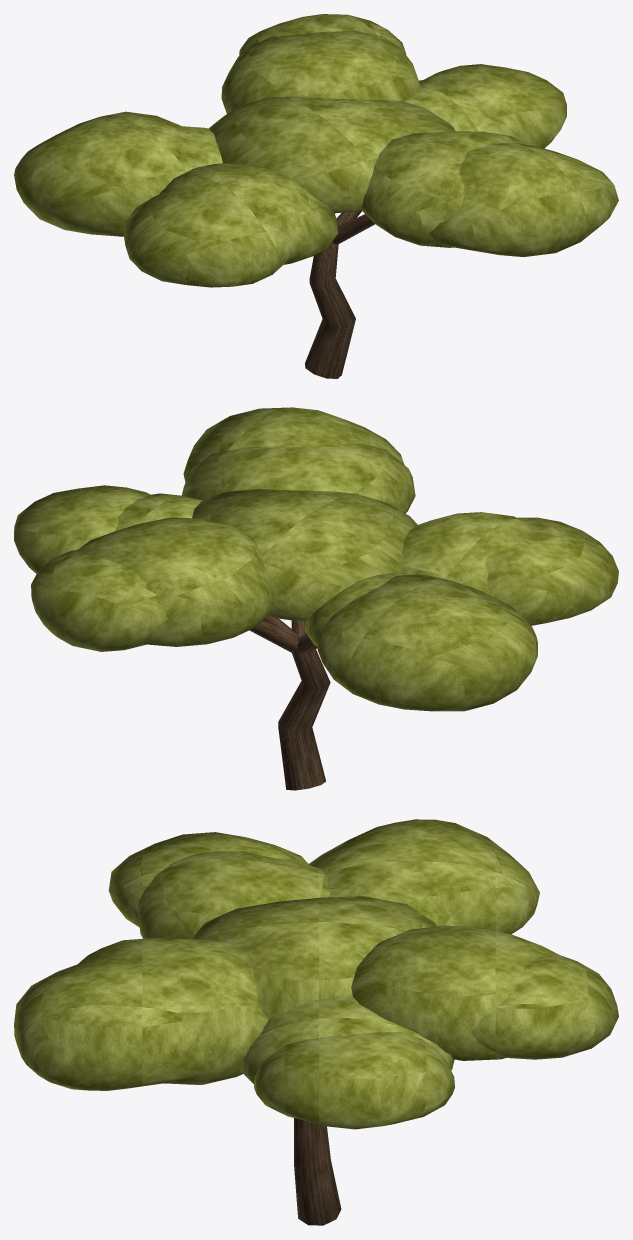
The model's file is Mezquite.obj.
3 views of the same model, one above another, from view 1: azimuth 30°, elevation 25°; view 2: azimuth 150°, elevation 25°; view 3: azimuth 270°, elevation 25° (orthographic). The views are drawn at different scales.
Visible parts, largest first — view 1: Mezquite; view 2: Mezquite; view 3: Mezquite.
Boxes of the visible parts, <box> form: Mezquite: <box>14,14,618,378</box>; Mezquite: <box>14,407,618,790</box>; Mezquite: <box>14,819,618,1225</box>.
Size of the model in its own units: 9.41 by 4.75 by 8.56.
2 materials, 2 textured.
